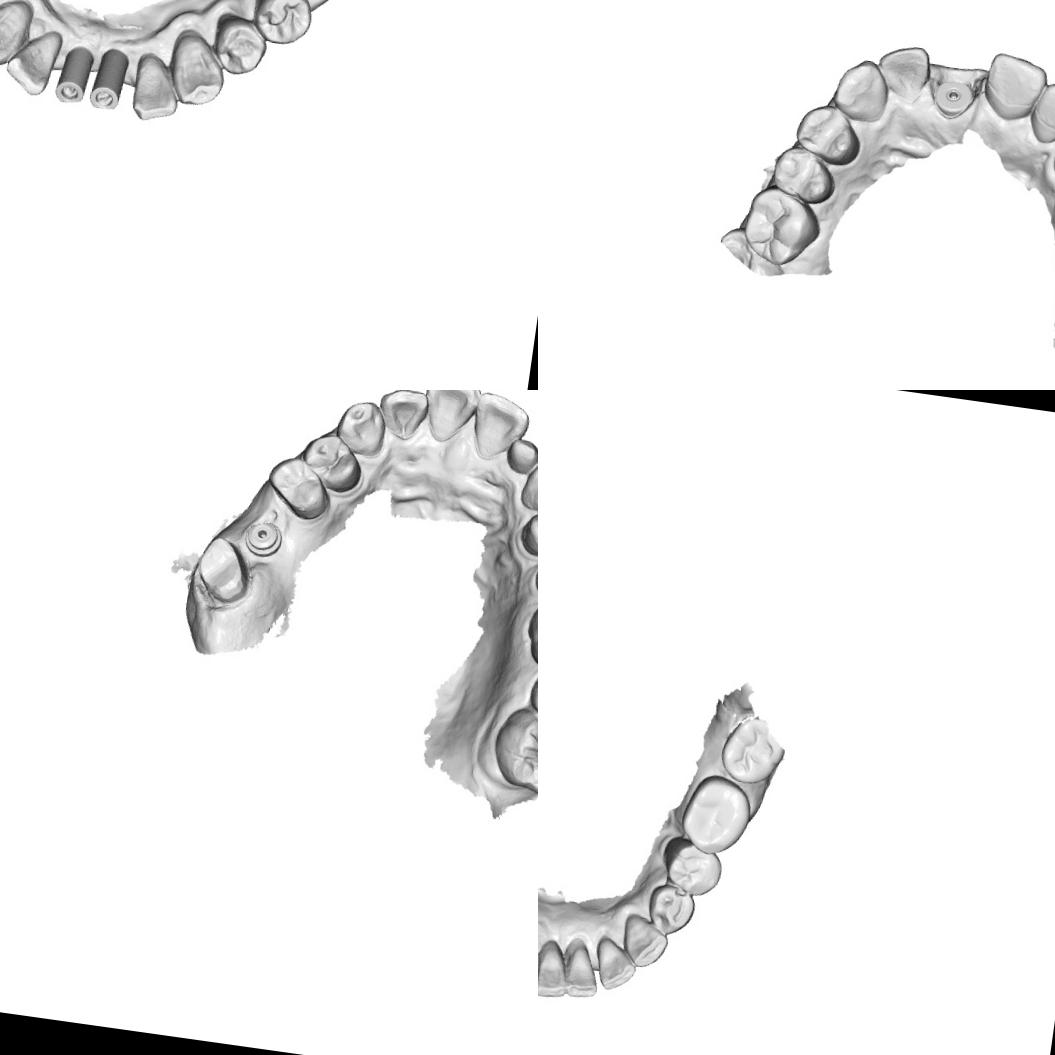canine: (167, 36, 228, 112), (830, 53, 890, 122), (332, 396, 390, 460), (618, 913, 671, 972), (0, 0, 36, 69), (517, 453, 538, 516)
crown: (192, 534, 258, 612)
implant: (86, 43, 130, 116), (54, 42, 98, 109), (930, 77, 976, 122), (240, 517, 286, 560)
incisor: (979, 50, 1051, 126), (468, 390, 534, 465), (2, 24, 66, 100), (126, 50, 187, 125), (873, 40, 934, 104), (418, 390, 481, 447), (375, 390, 431, 443), (592, 936, 640, 994), (563, 943, 604, 1000), (1025, 79, 1055, 149), (538, 942, 572, 1001), (504, 435, 538, 478)
molar: (739, 179, 828, 272), (676, 770, 757, 860), (716, 715, 790, 789), (486, 703, 538, 800)
premolar: (260, 452, 337, 525), (791, 100, 866, 169), (296, 428, 368, 496), (206, 7, 271, 80), (768, 142, 841, 206), (657, 834, 726, 900), (642, 882, 699, 939), (249, 0, 316, 48), (517, 503, 538, 564)
